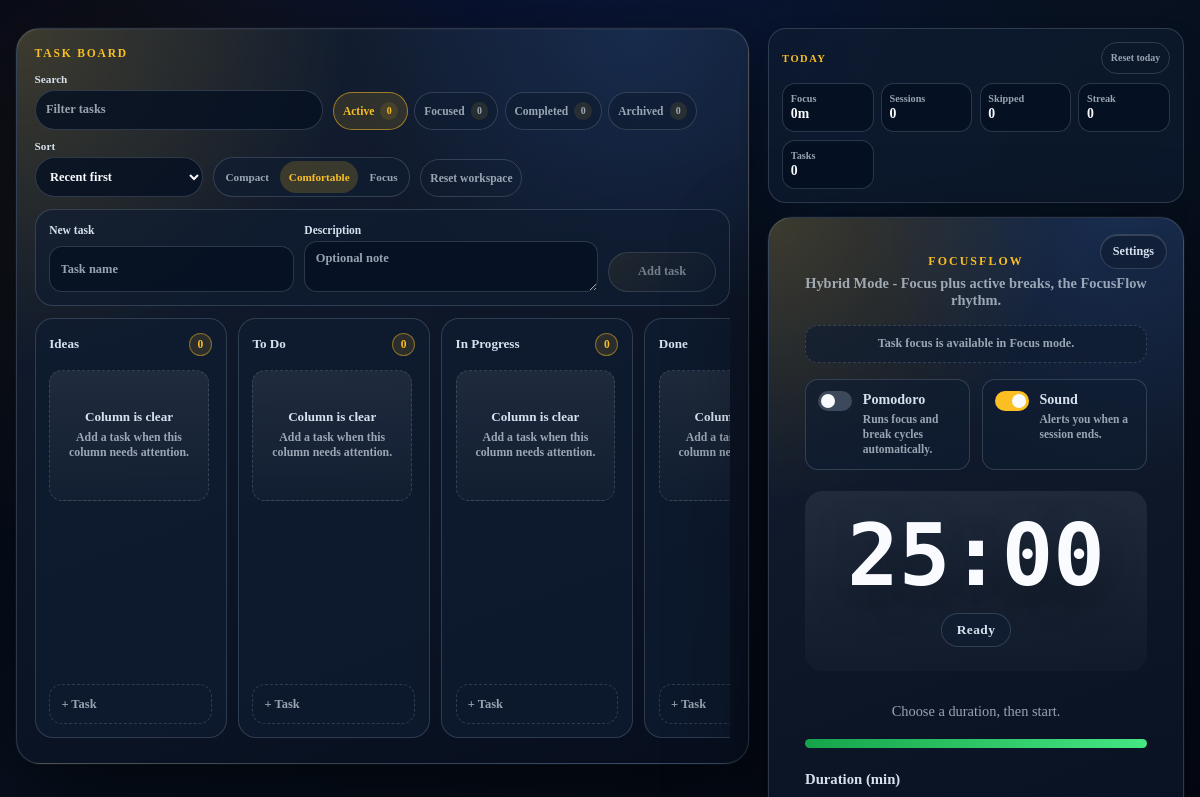
Test: Keyboard and accessibility workflows › handles Escape consistently for settings and shortcut capture
The image size is (1200, 797).
Click the button with test id "settings-button": x=1134, y=252 [1100,234,1167,269]
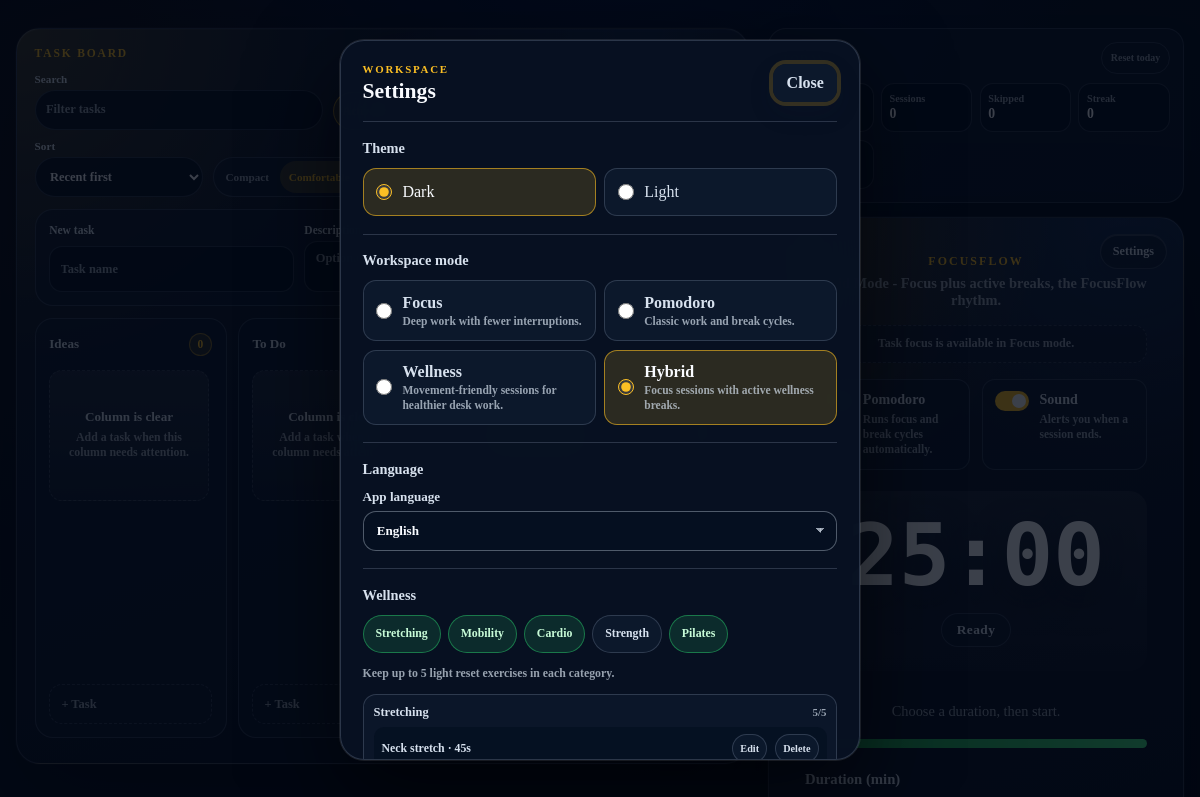
Scroll
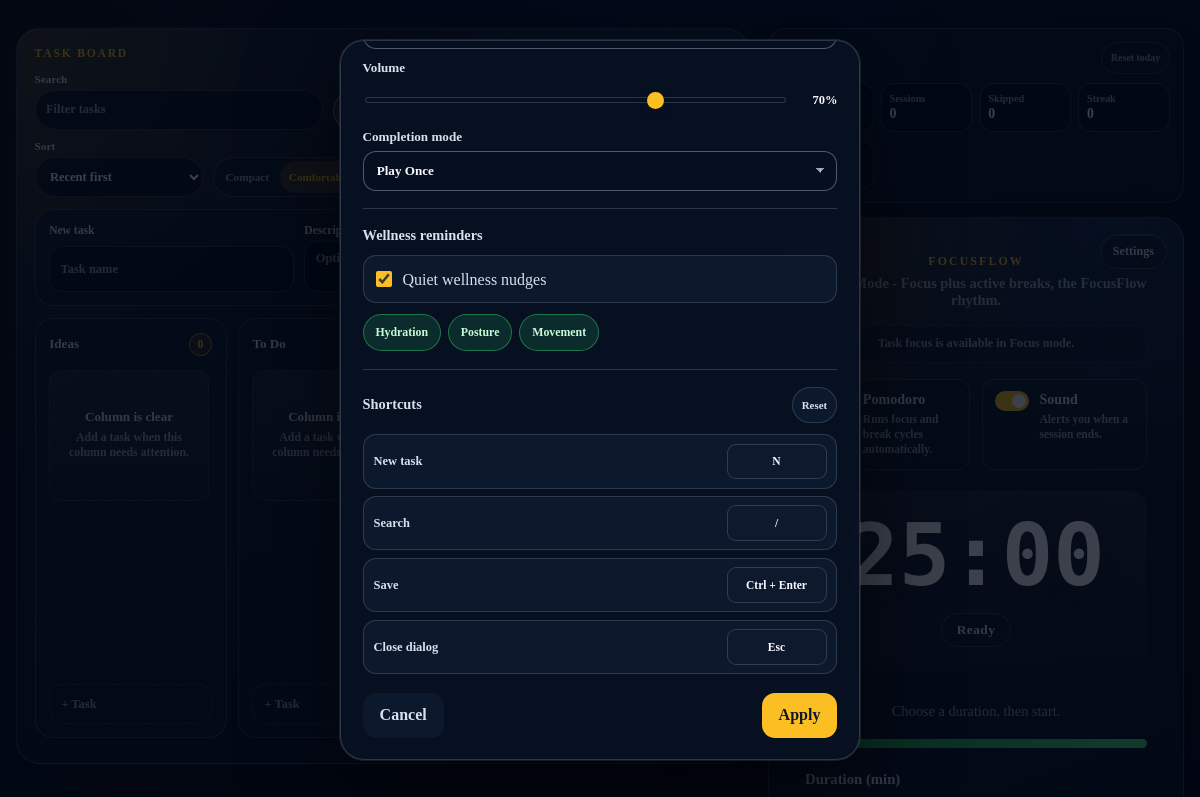
Click the button with class "shortcut-key" showing "/": x=777, y=524 [727,506,827,541]
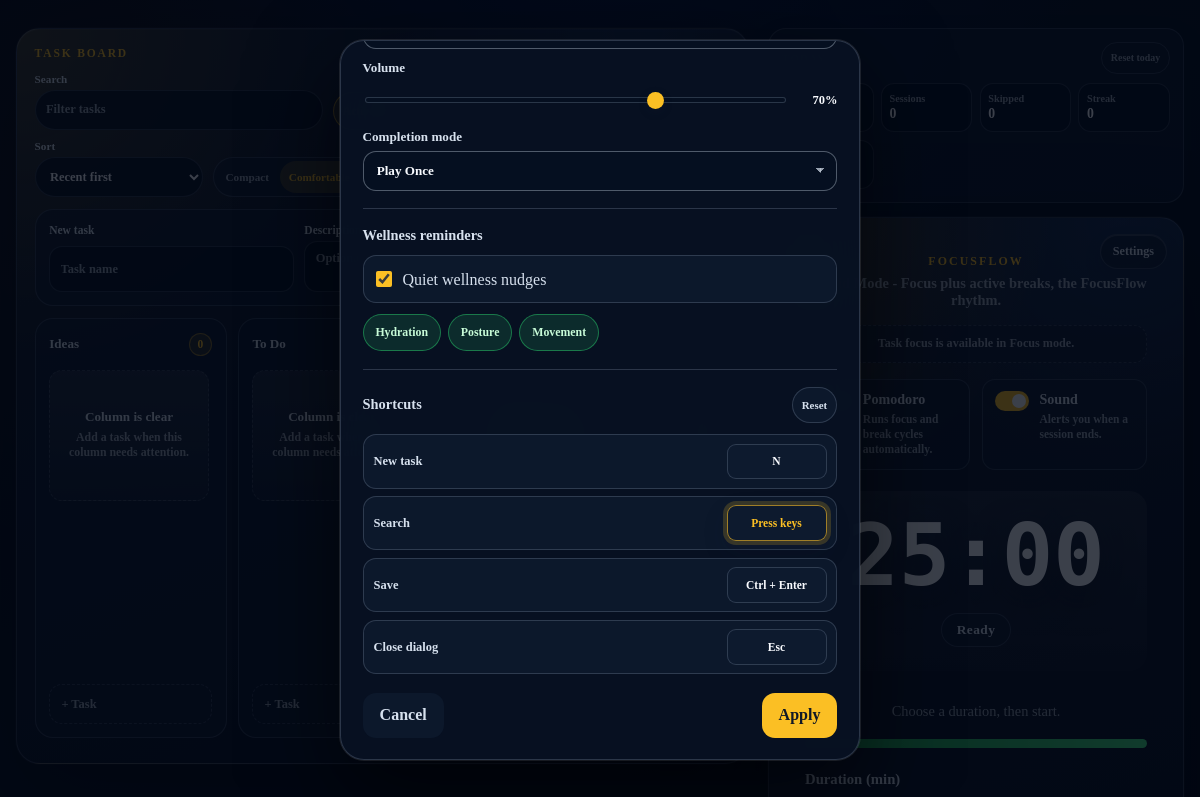
Now the button with class "shortcut-key" reads "Press keys"
Press Esc in the button "Press keys", box [727,506,827,541]
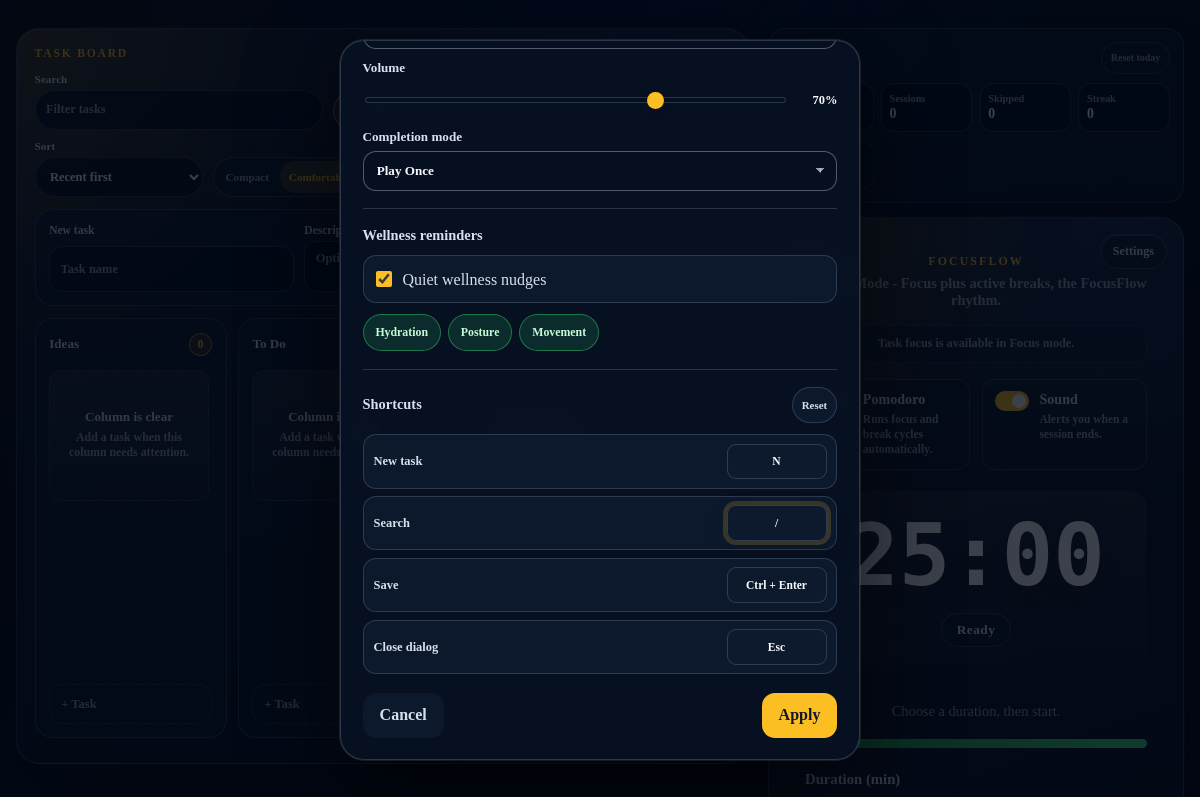
Now the form with class "settings-panel" is shown, box [340,40,860,760]
Now the button with class "shortcut-key" no longer shows "Press keys"
Press Esc
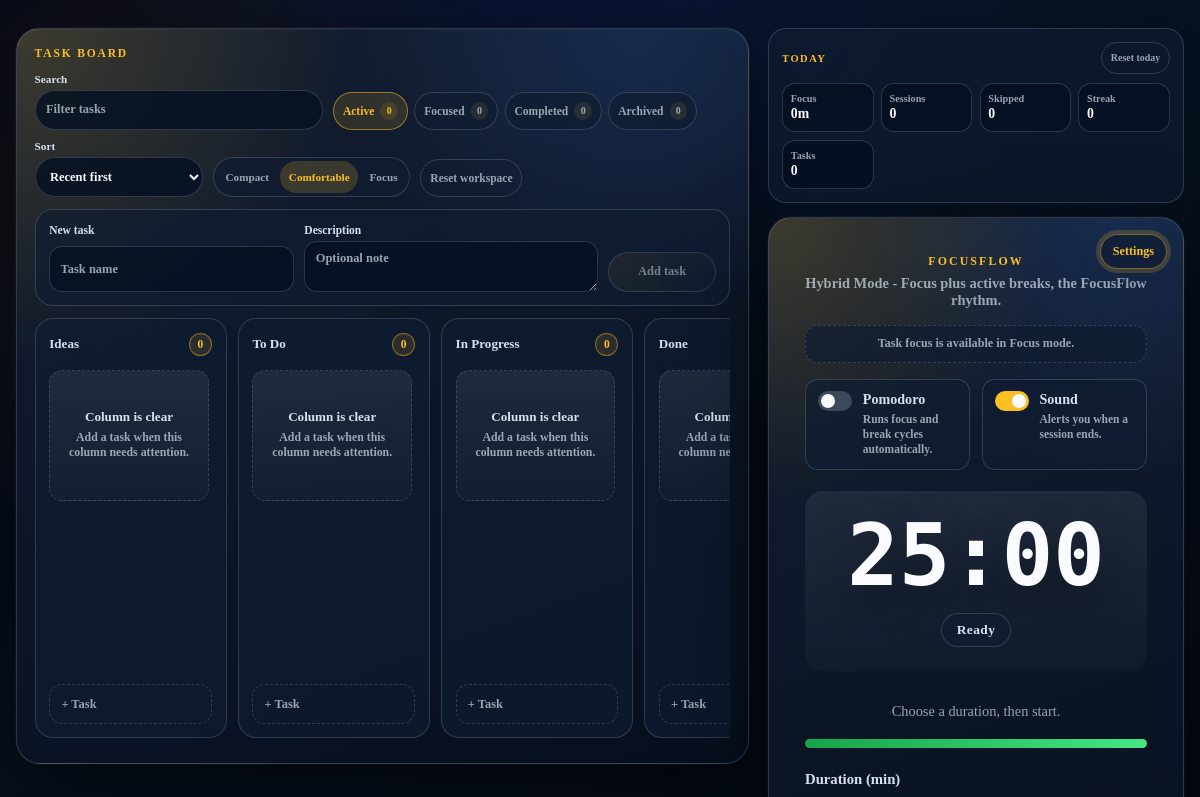
Now the form with class "settings-panel" is gone
